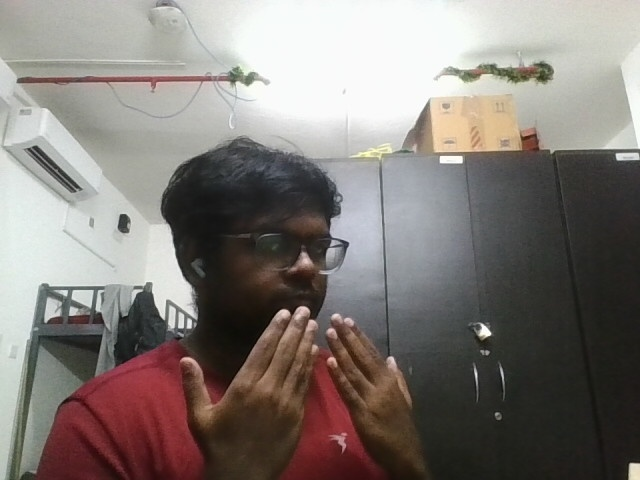Thanks: (171, 295, 439, 480)
